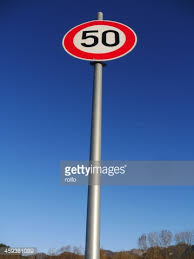Speed_limit_50km: (61, 19, 139, 61)
